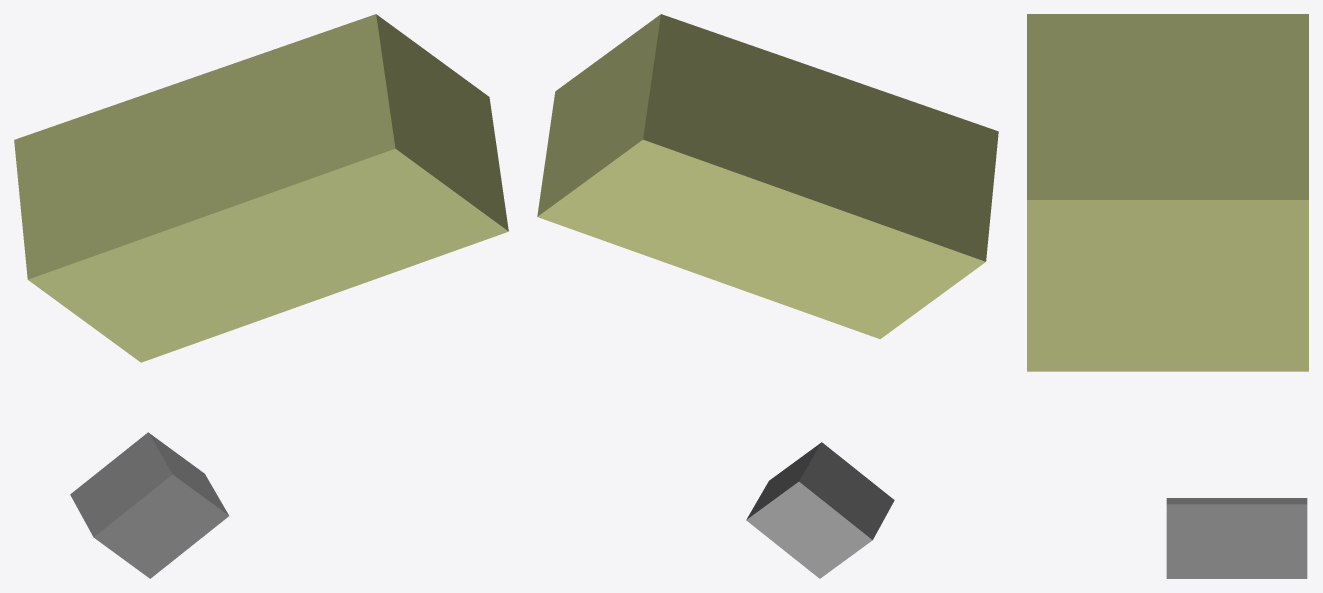
The picture shows the model from 3 angles, left to right: view 1: azimuth 30°, elevation 25°; view 2: azimuth 150°, elevation 25°; view 3: azimuth 270°, elevation 25°; orthographic projection. The views are drawn at different scales.
Parts seen in each view (by area): view 1: 0_3_2_2_3_1_1_2_3_2; view 2: 0_3_2_2_3_1_1_2_3_2; view 3: 0_3_2_2_3_1_1_2_3_2.
Boxes of the visible parts, x1,y1,x2,y2 form: 0_3_2_2_3_1_1_2_3_2: (14,14,508,578); 0_3_2_2_3_1_1_2_3_2: (537,14,998,578); 0_3_2_2_3_1_1_2_3_2: (1027,14,1308,578).
Size of the model in its own units: 11.65 by 13.25 by 6.
